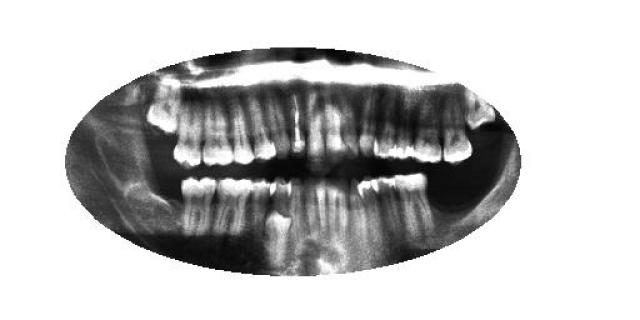Fillings: (395, 105, 414, 159)
Implant: (288, 87, 308, 155)
